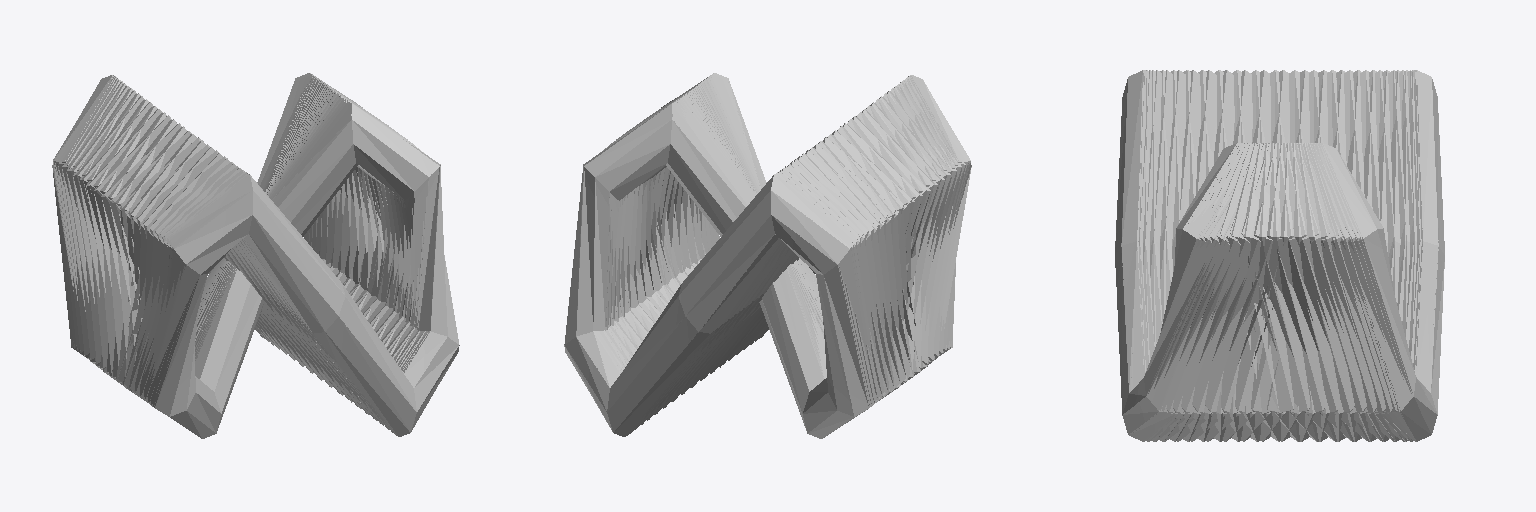
File: threeTwo.obj
3 views of the same model, side by side, from view 1: azimuth 30°, elevation 25°; view 2: azimuth 150°, elevation 25°; view 3: azimuth 270°, elevation 25° (orthographic).
Parts seen in each view (by area): view 1: Sweep; view 2: Sweep; view 3: Sweep.
Boxes of the visible parts, <box> form: Sweep: <box>52,73,459,438</box>; Sweep: <box>564,73,971,438</box>; Sweep: <box>1115,70,1444,441</box>.
Size of the model in its own units: 1 by 1 by 1.